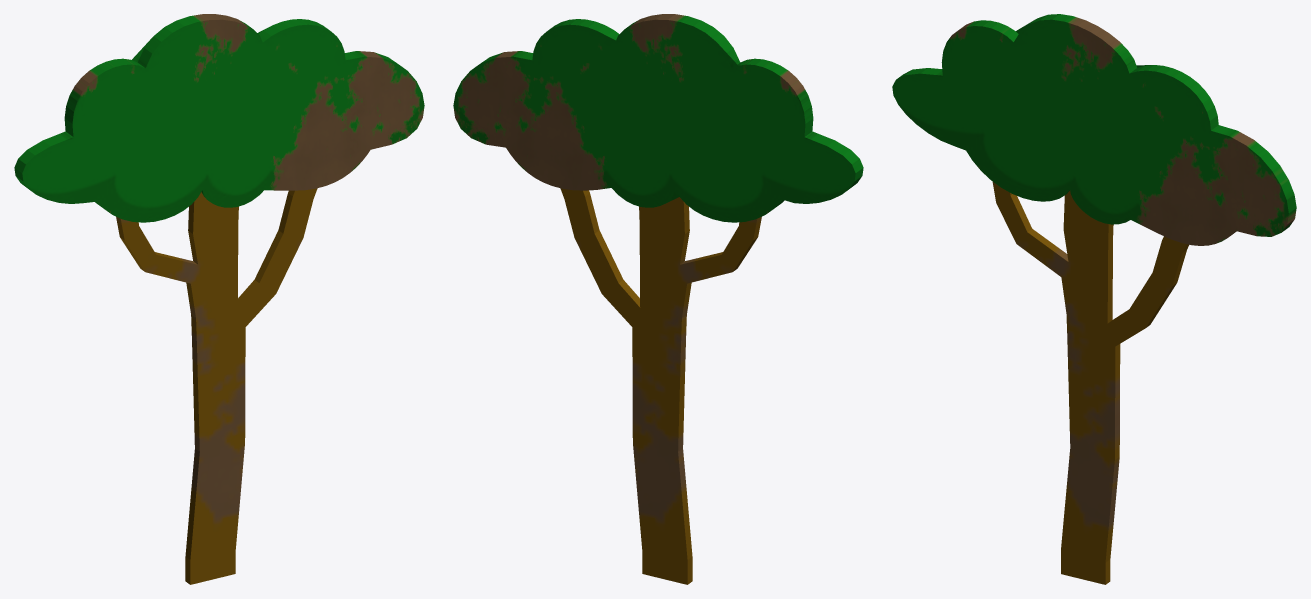
Rendered from Arbol1Junto.fbx.
The picture shows the model from 3 angles, left to right: view 1: azimuth 30°, elevation 25°; view 2: azimuth 150°, elevation 25°; view 3: azimuth 330°, elevation 25°; orthographic projection.
Parts seen in each view (by area): view 1: arbol 1; view 2: arbol 1; view 3: arbol 1.
Part boxes in pixels (box(x1,y1,x2,y2)): arbol 1: box(14, 14, 424, 584); arbol 1: box(453, 14, 863, 584); arbol 1: box(892, 14, 1296, 584).
Size of the model in its own units: 520 by 695 by 17.73.
